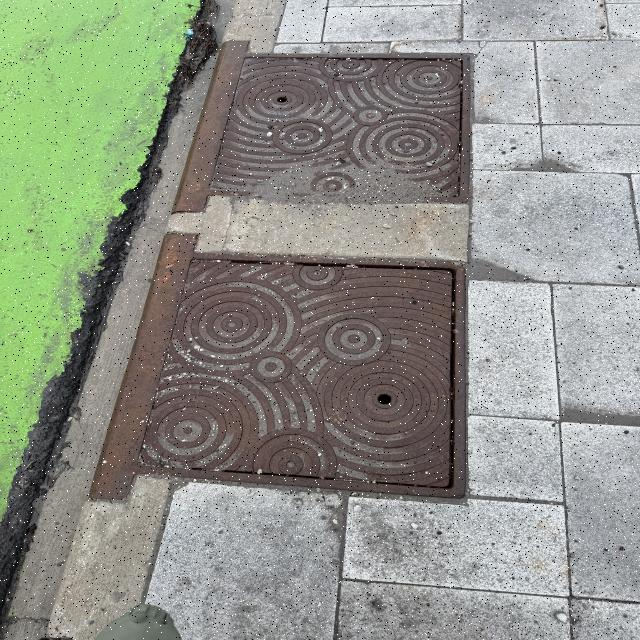Manhole: (152, 252, 466, 500), (198, 51, 472, 197)
